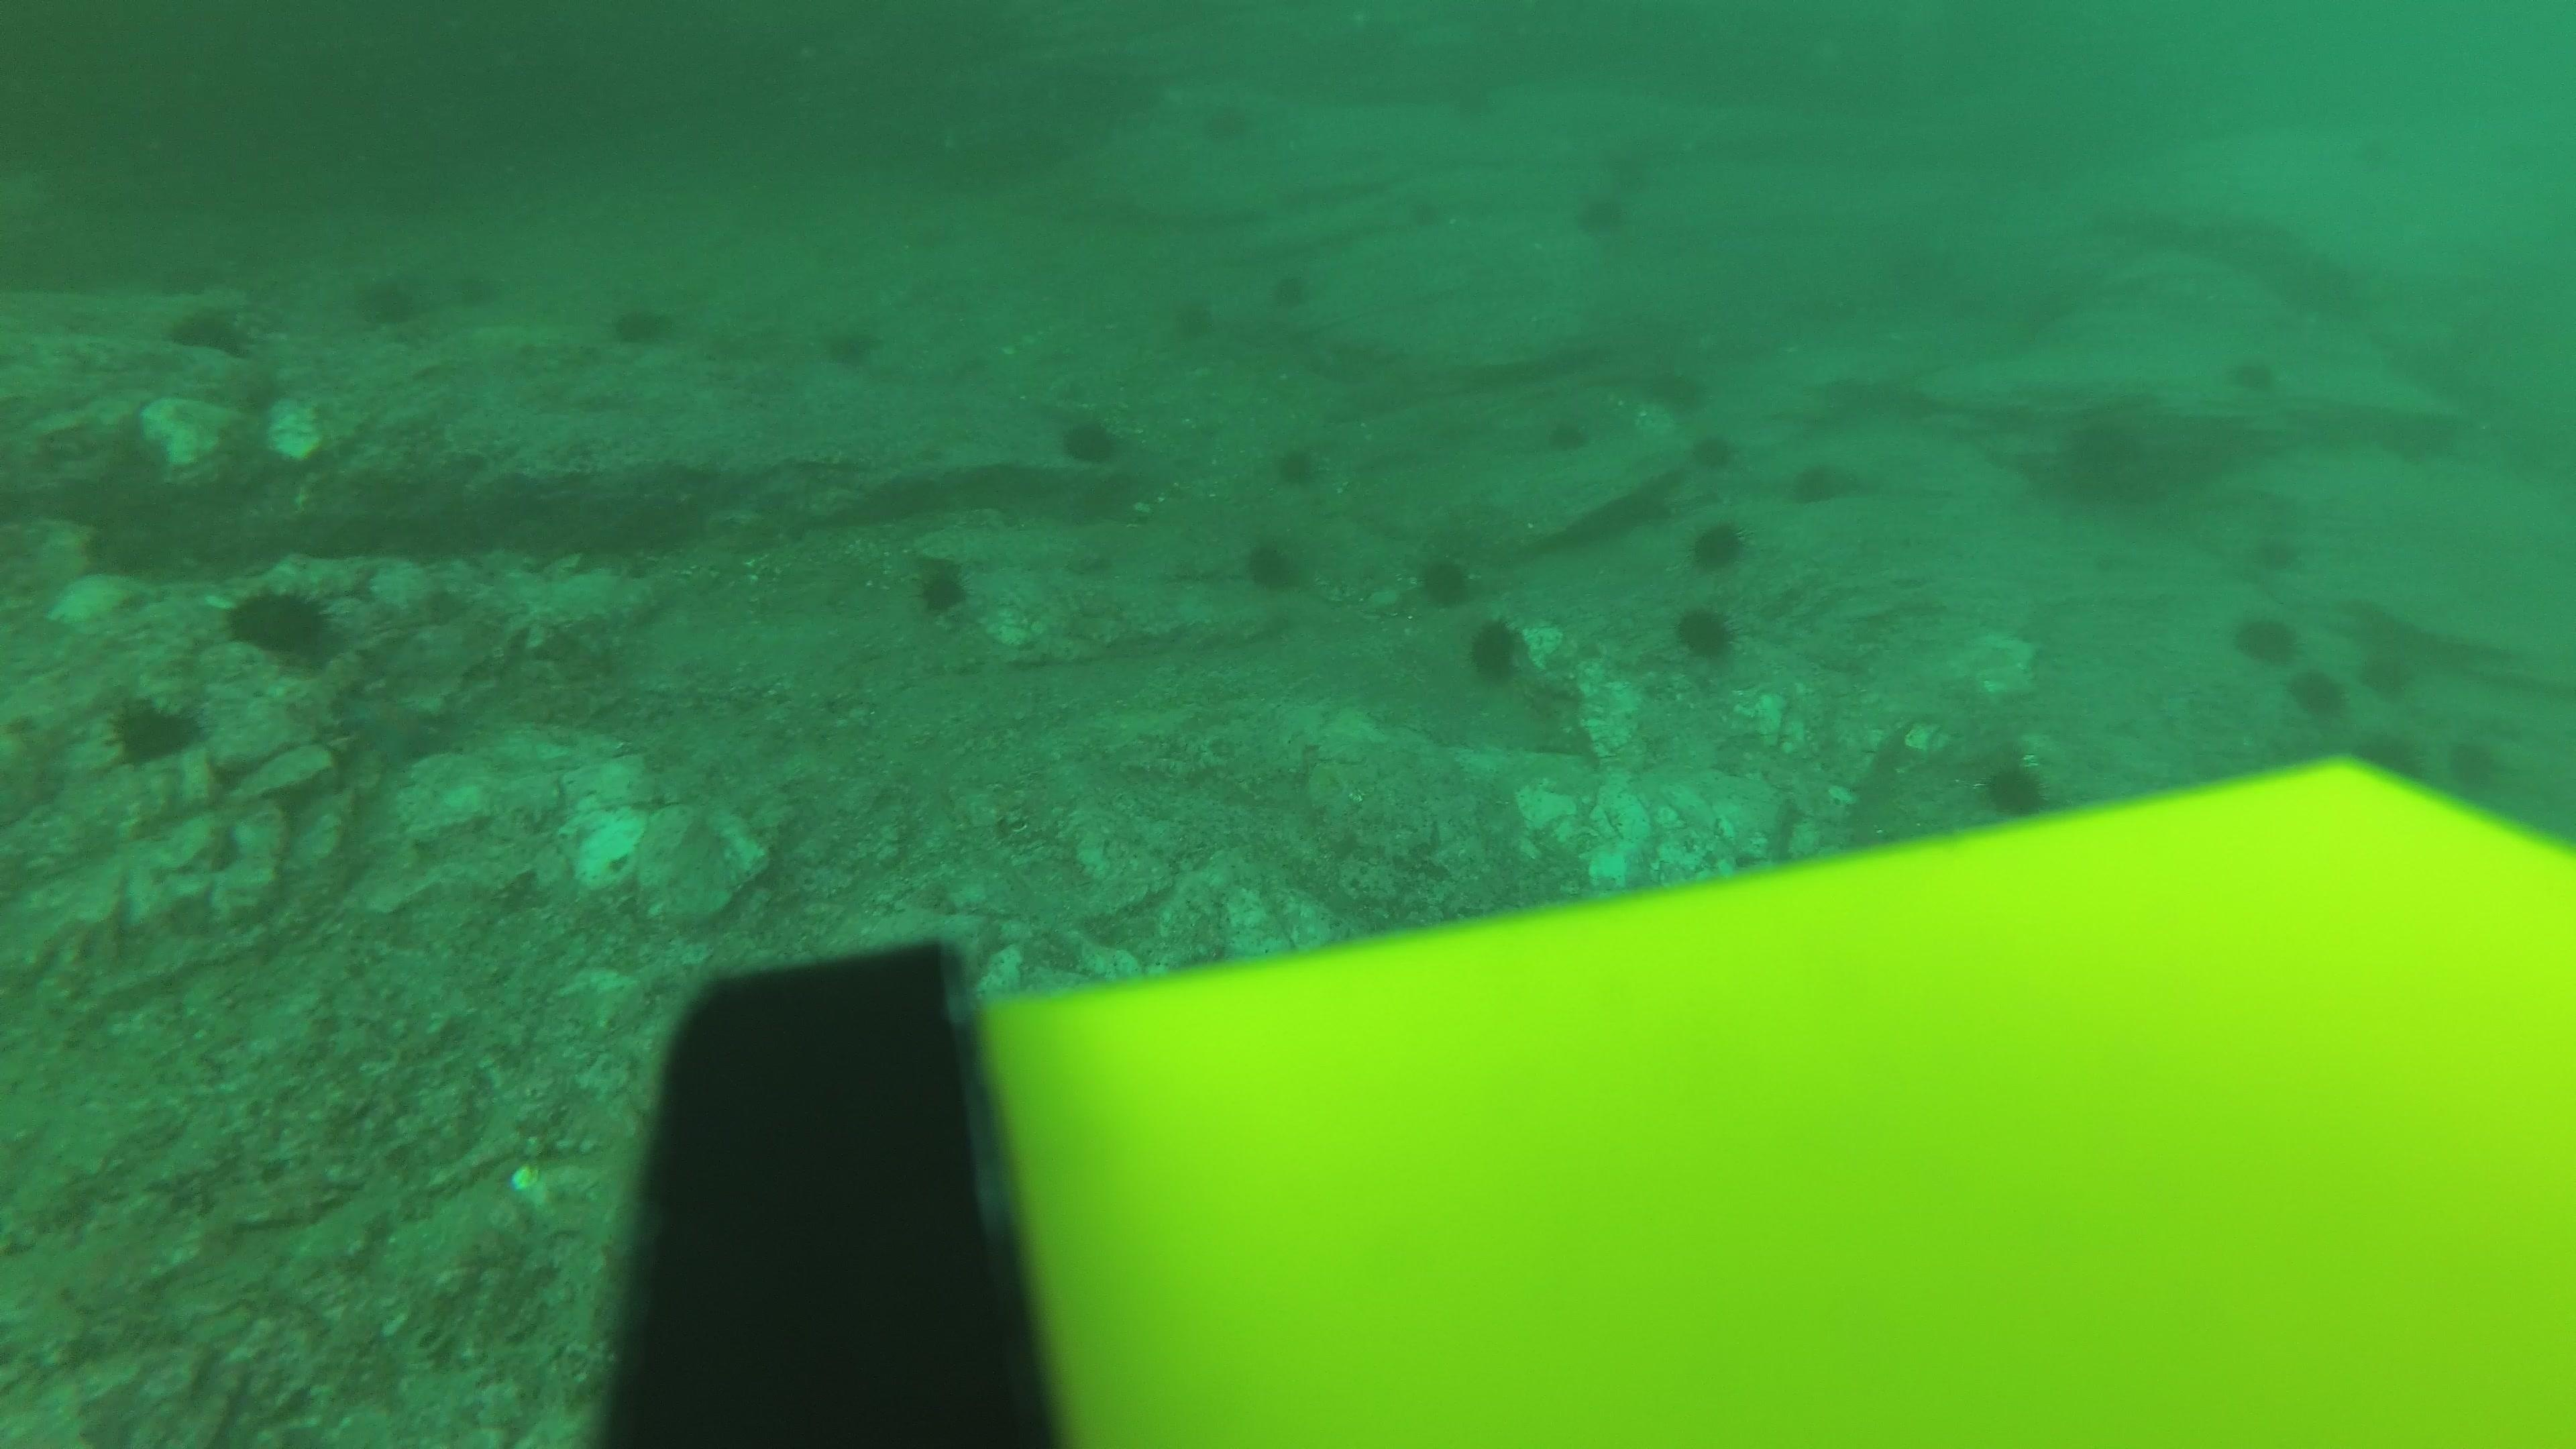echinus: (2043, 403, 2174, 515), (223, 577, 341, 669), (103, 688, 205, 770), (1971, 748, 2056, 823), (165, 297, 255, 357), (2438, 729, 2512, 800), (449, 251, 525, 317), (352, 267, 428, 331), (908, 554, 977, 621), (1463, 614, 1529, 685), (1240, 533, 1307, 596), (2250, 525, 2321, 586), (1789, 453, 1863, 510), (1672, 602, 1737, 665), (1056, 409, 1125, 469), (2226, 609, 2295, 669), (2355, 644, 2424, 704), (2358, 720, 2427, 780), (2227, 336, 2296, 396), (2330, 124, 2399, 184), (607, 292, 678, 350), (1414, 547, 1477, 610), (817, 313, 885, 373), (1686, 515, 1748, 575), (1571, 184, 1635, 242), (1605, 143, 1668, 202), (1453, 69, 1516, 127), (1401, 180, 1465, 239), (1263, 260, 1327, 318), (1169, 285, 1233, 343), (1196, 94, 1260, 152), (1645, 359, 1711, 416), (2286, 667, 2348, 724), (1270, 437, 1323, 492), (1541, 409, 1596, 458), (1688, 426, 1739, 476)
starfish: (333, 685, 453, 770)
